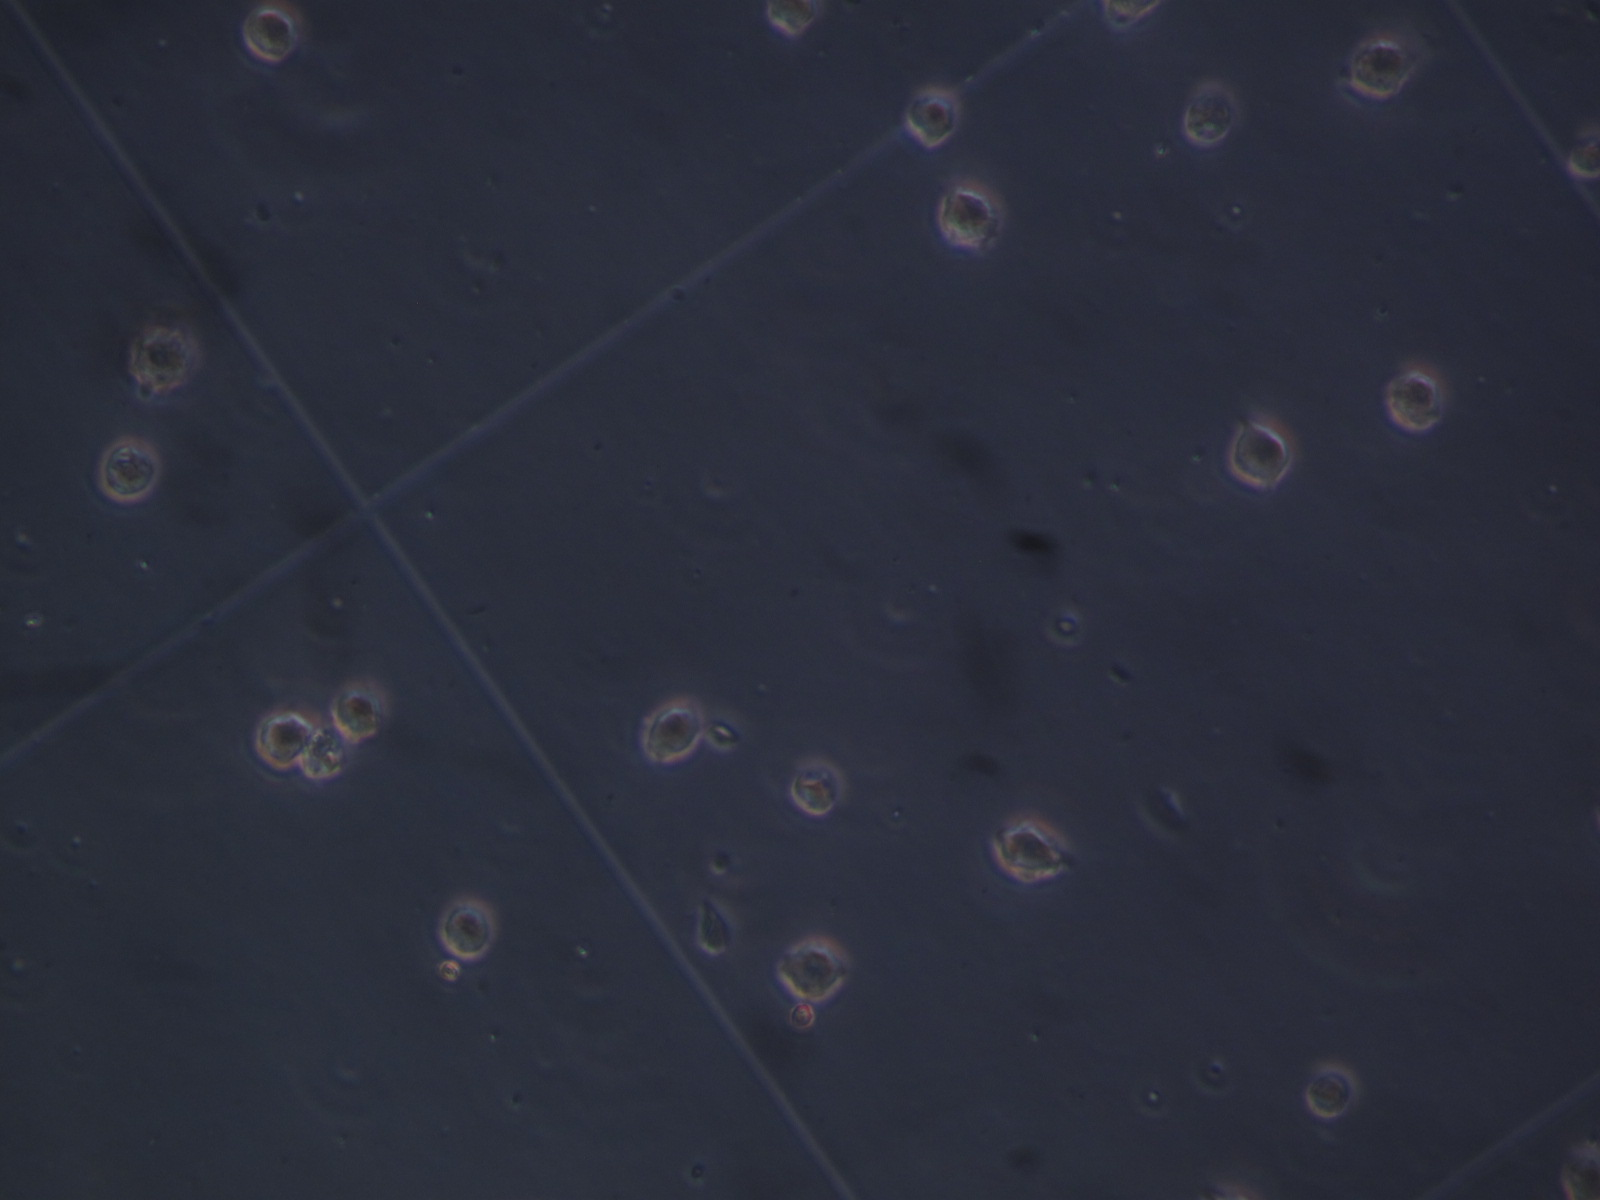hemo: (937, 178, 1010, 248), (125, 321, 194, 396), (993, 816, 1061, 885), (1228, 415, 1293, 485), (779, 937, 847, 1001), (1385, 362, 1446, 432), (98, 436, 163, 500), (640, 695, 700, 761), (438, 892, 498, 961), (242, 1, 304, 63), (1347, 42, 1411, 101), (254, 708, 315, 770), (789, 759, 848, 817), (1180, 84, 1238, 142), (906, 88, 957, 151), (328, 683, 382, 742), (1306, 1063, 1363, 1118), (299, 725, 349, 779), (763, 1, 826, 39), (1104, 1, 1167, 28)
